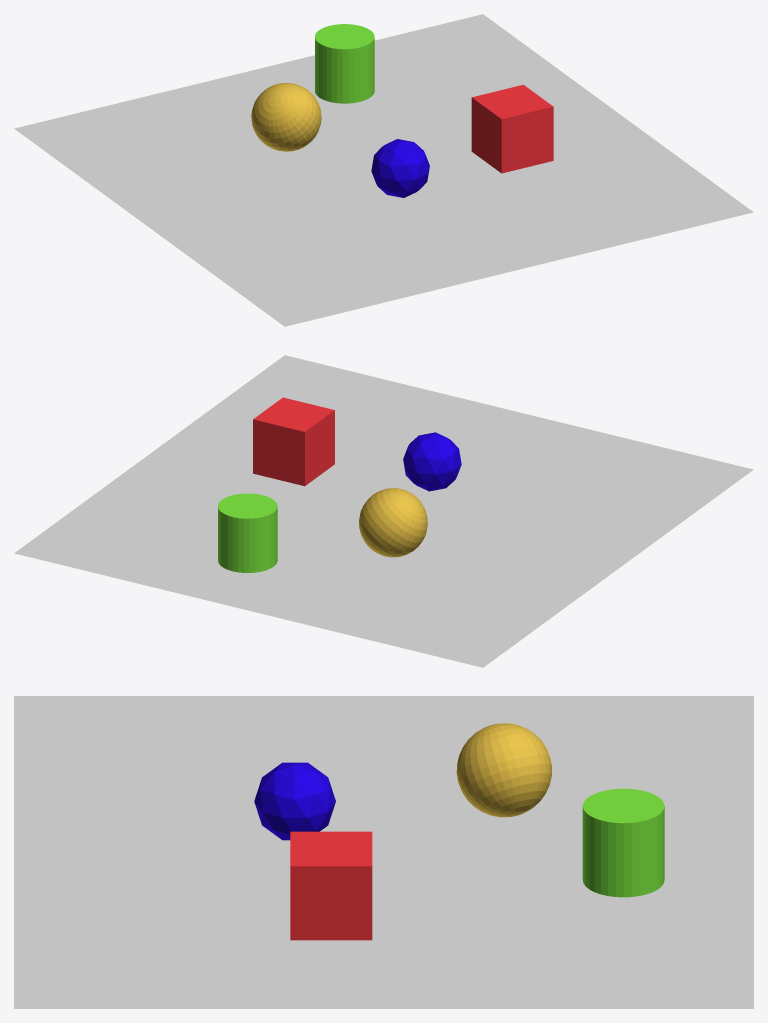
The picture shows the model from 3 angles, top to bottom: view 1: azimuth 30°, elevation 25°; view 2: azimuth 150°, elevation 25°; view 3: azimuth 270°, elevation 25°; orthographic projection. The views are drawn at different scales.
Parts seen in each view (by area): view 1: Plane, Cube.001, Cylinder, Sphere, Icosphere; view 2: Plane, Cube.001, Cylinder, Sphere, Icosphere; view 3: Plane, Cube.001, Cylinder, Sphere, Icosphere.
Boxes of the visible parts, x1,y1,x2,y2 form: Plane: (14,14,753,326); Cube.001: (471,84,553,173); Cylinder: (315,24,374,103); Sphere: (251,83,321,151); Icosphere: (371,139,429,197); Plane: (14,355,753,667); Cube.001: (253,397,334,486); Cylinder: (218,493,277,572); Sphere: (359,488,427,557); Icosphere: (403,432,461,491); Plane: (14,696,753,1008); Cube.001: (290,831,372,940); Cylinder: (582,788,664,897); Sphere: (456,723,551,817); Icosphere: (254,762,335,840).
Bounding box in the file's own units: 18.09 × 2.4 × 18.09.
